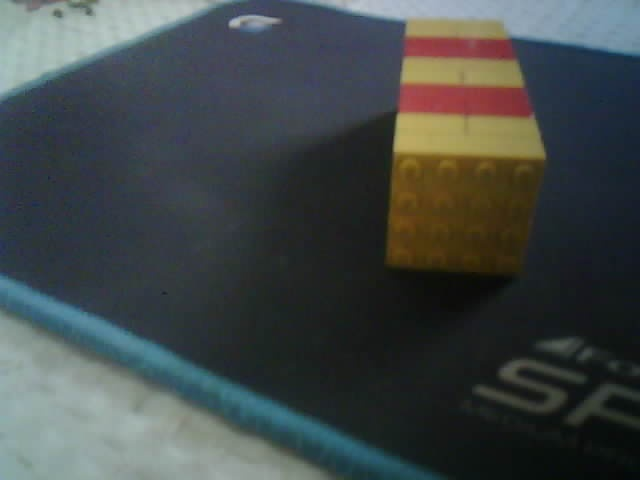lego: (383, 15, 551, 279)
